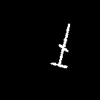double_crochet: (51, 24, 69, 67)
